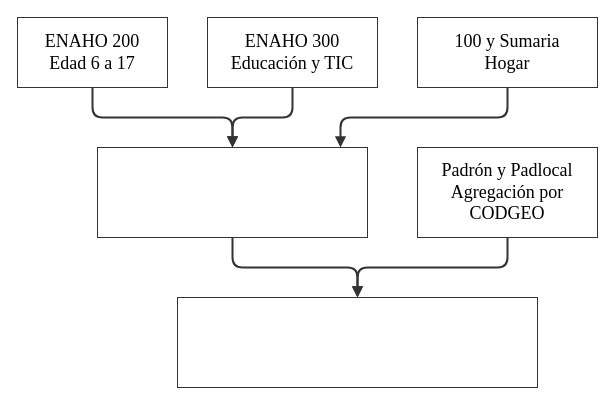
The diagram is 615 pixels wide and 405 high, and some of its shapes have lost their labels. Here are the shapes that lost their labels. From the top down, the centre of each, then its label:
At pixel 232 192: "Unión persona y hogar CONGLOME, VIVIENDA, HOGAR, CODPERSO".
At pixel 357 342: "Maestro 24 195 personas Clasificación 19 490 UBIGEO igual a CODGEO".
